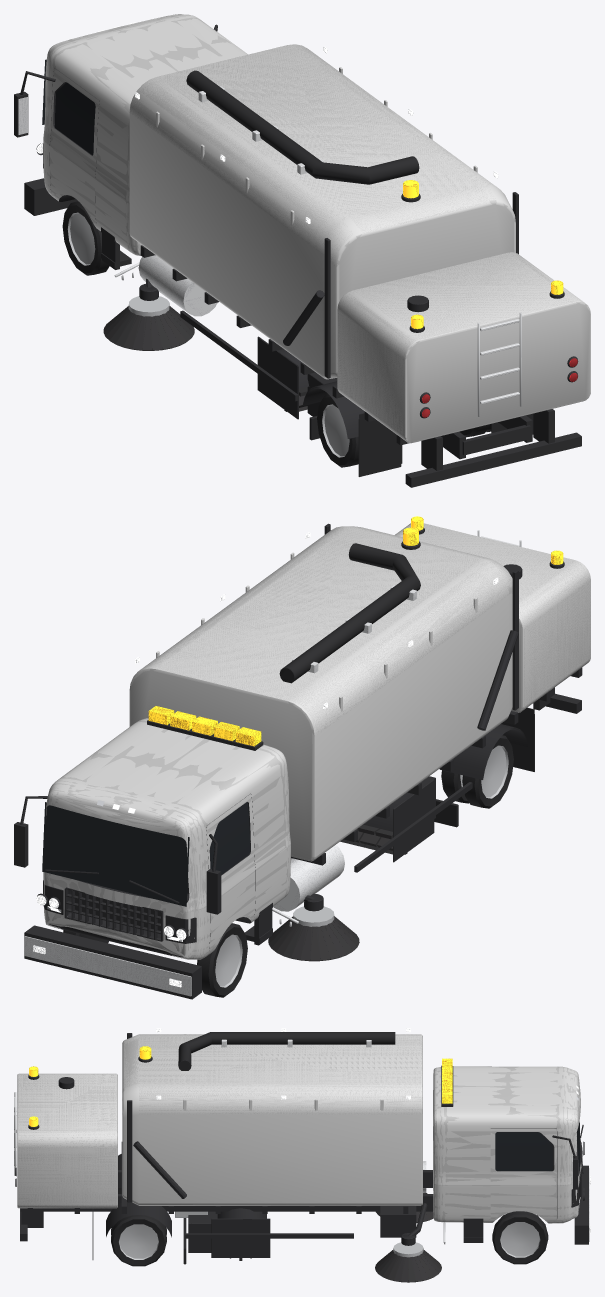
The model's file is road_sweeper.glb.
The picture shows the model from 3 angles, top to bottom: view 1: azimuth 30°, elevation 25°; view 2: azimuth 150°, elevation 25°; view 3: azimuth 270°, elevation 25°; orthographic projection. The views are drawn at different scales.
Parts seen in each view (by area): view 1: road_sweeper, road_sweeper_far, rig_brush_l; view 2: road_sweeper, road_sweeper_far, rig_brush_l, rig_broom; view 3: road_sweeper, road_sweeper_far, rig_brush_r.
Boxes of the visible parts, bbox=[...] form: road_sweeper: bbox=[14, 14, 590, 487]; road_sweeper_far: bbox=[14, 14, 590, 486]; rig_brush_l: bbox=[103, 296, 194, 350]; road_sweeper: bbox=[14, 516, 590, 999]; road_sweeper_far: bbox=[14, 517, 590, 998]; rig_brush_l: bbox=[268, 906, 359, 961]; rig_broom: bbox=[340, 824, 407, 854]; road_sweeper: bbox=[14, 1028, 590, 1264]; road_sweeper_far: bbox=[14, 1029, 590, 1282]; rig_brush_r: bbox=[375, 1242, 441, 1282].
Size of the model in its own units: 3.14 by 3.21 by 8.78.
